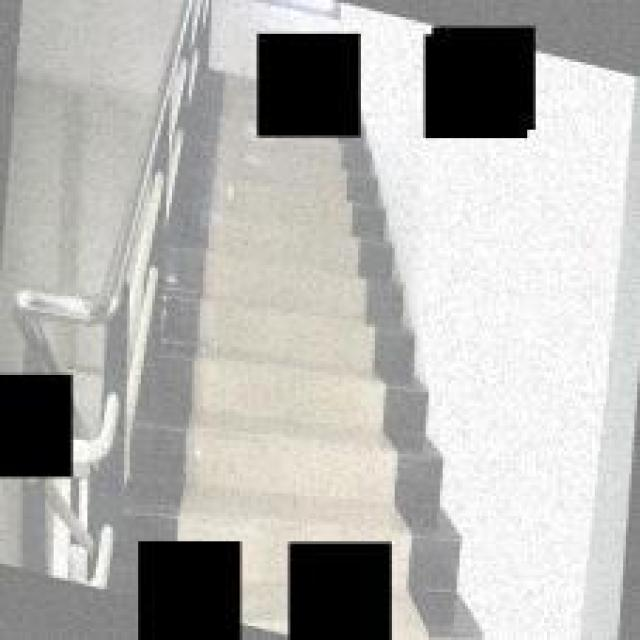upstair: (184, 139, 410, 520)
